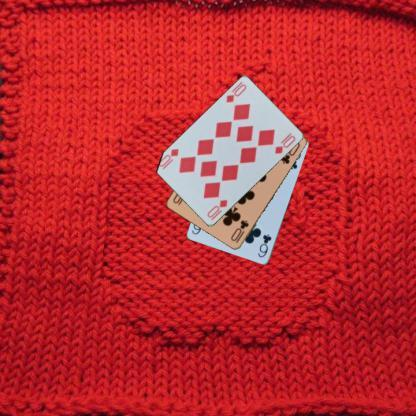10c: (228, 218, 250, 245)
10d: (204, 197, 229, 222), (224, 82, 247, 103)
6c: (255, 232, 273, 259)
